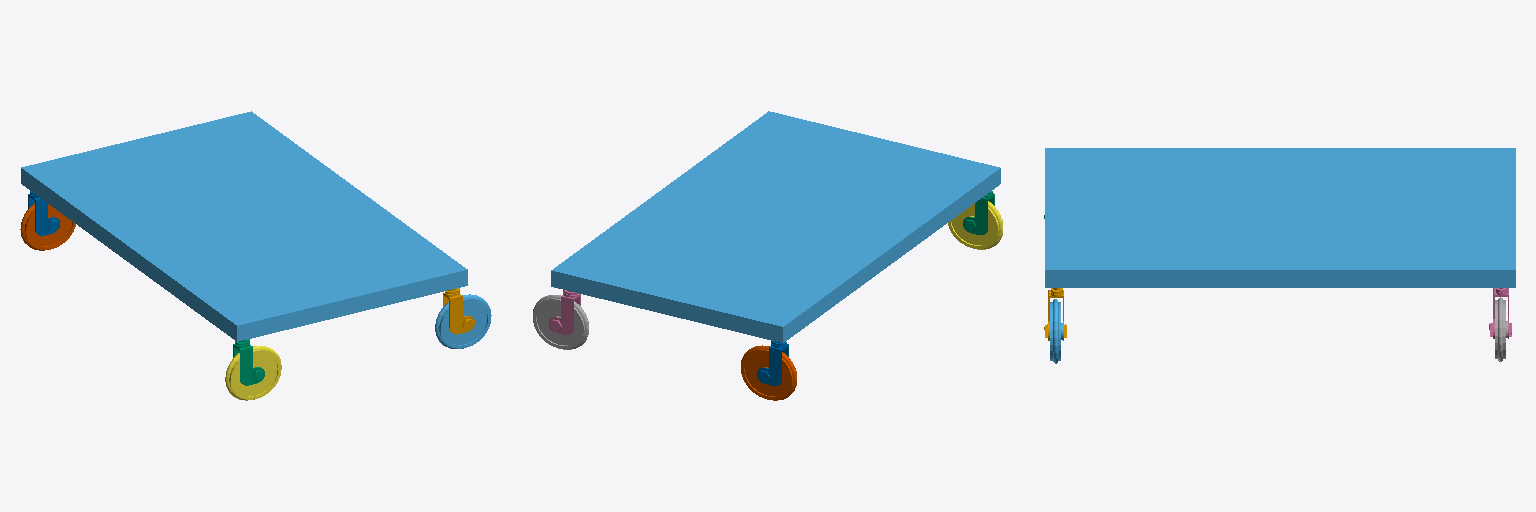
--- What the picture shows (computed from the rendered views, not written in the file) ---
Views: 3 orthographic renders of the robot side by side, from view 1: azimuth 30°, elevation 25°; view 2: azimuth 150°, elevation 25°; view 3: azimuth 270°, elevation 25°.
Model partnet_174832b73cd6d91c9856fa70a578baeb with 10 links and 9 joints (8 continuous, 1 fixed), rooted at base, posed every joint at zero.
Visible links, largest first — view 1: link_0, link_2, link_8, link_4, link_7, link_1, link_3; view 2: link_0, link_6, link_4, link_2, link_3, link_5, link_1; view 3: link_0, link_8, link_6.
Boxes of the visible links, x1,y1,x2,y2 form: link_0: (21,111,467,341); link_2: (225,346,281,400); link_8: (435,294,491,348); link_4: (20,203,75,250); link_7: (443,288,474,334); link_1: (233,339,264,385); link_3: (28,191,59,235); link_0: (551,111,1000,342); link_6: (533,295,588,349); link_4: (741,345,796,400); link_2: (948,201,1002,249); link_3: (757,340,788,385); link_5: (549,290,580,334); link_1: (963,191,994,234); link_0: (1045,148,1515,287); link_8: (1050,299,1062,363); link_6: (1495,297,1507,361).
Bounding box of the posed robot: 1.15 × 1.62 × 0.3409 m (x, y, z).
Meshes: 37 distinct files referenced, 37 mesh visuals loaded (37 OBJ).

URDF robot description (partnet_174832b73cd6d91c9856fa70a578baeb):
<robot name="partnet_174832b73cd6d91c9856fa70a578baeb">
	<link name="base" />
	<link name="link_0">
		<collision>
			<origin xyz="0 0 0" />
			<geometry>
				<mesh filename="new5_objs/bar-26-0.obj" />
			</geometry>
		</collision>
		<collision>
			<origin xyz="0 0 0" />
			<geometry>
				<mesh filename="new5_objs/bar-26-1.obj" />
			</geometry>
		</collision>
		<collision>
			<origin xyz="0 0 0" />
			<geometry>
				<mesh filename="new5_objs/bar-26-2.obj" />
			</geometry>
		</collision>
		<collision>
			<origin xyz="0 0 0" />
			<geometry>
				<mesh filename="new5_objs/bar-25-0.obj" />
			</geometry>
		</collision>
		<collision>
			<origin xyz="0 0 0" />
			<geometry>
				<mesh filename="new5_objs/bar-25-1.obj" />
			</geometry>
		</collision>
		<collision>
			<origin xyz="0 0 0" />
			<geometry>
				<mesh filename="new5_objs/bar-23-0.obj" />
			</geometry>
		</collision>
		<collision>
			<origin xyz="0 0 0" />
			<geometry>
				<mesh filename="new5_objs/bar-23-1.obj" />
			</geometry>
		</collision>
		<collision>
			<origin xyz="0 0 0" />
			<geometry>
				<mesh filename="new5_objs/bar-23-2.obj" />
			</geometry>
		</collision>
		<collision>
			<origin xyz="0 0 0" />
			<geometry>
				<mesh filename="new5_objs/glass-27-0.obj" />
			</geometry>
		</collision>
		<collision>
			<origin xyz="0 0 0" />
			<geometry>
				<mesh filename="new5_objs/glass-27-1.obj" />
			</geometry>
		</collision>
		<collision>
			<origin xyz="0 0 0" />
			<geometry>
				<mesh filename="new5_objs/glass-27-2.obj" />
			</geometry>
		</collision>
		<collision>
			<origin xyz="0 0 0" />
			<geometry>
				<mesh filename="new5_objs/glass-27-3.obj" />
			</geometry>
		</collision>
		<collision>
			<origin xyz="0 0 0" />
			<geometry>
				<mesh filename="new5_objs/glass-27-4.obj" />
			</geometry>
		</collision>
		<collision>
			<origin xyz="0 0 0" />
			<geometry>
				<mesh filename="new5_objs/glass-27-5.obj" />
			</geometry>
		</collision>
		<collision>
			<origin xyz="0 0 0" />
			<geometry>
				<mesh filename="new5_objs/bar-24-0.obj" />
			</geometry>
		</collision>
		<collision>
			<origin xyz="0 0 0" />
			<geometry>
				<mesh filename="new5_objs/bar-24-1.obj" />
			</geometry>
		</collision>
		<collision>
			<origin xyz="0 0 0" />
			<geometry>
				<mesh filename="new5_objs/bar-24-2.obj" />
			</geometry>
		</collision>
		<visual name="glass-27">
			<origin xyz="0 0 0" />
			<geometry>
				<mesh filename="textured_objs/new-8.obj" />
			</geometry>
		</visual>
		<visual name="bar-23">
			<origin xyz="0 0 0" />
			<geometry>
				<mesh filename="textured_objs/new-0.obj" />
			</geometry>
		</visual>
		<visual name="bar-23">
			<origin xyz="0 0 0" />
			<geometry>
				<mesh filename="textured_objs/new-7.obj" />
			</geometry>
		</visual>
		<visual name="bar-24">
			<origin xyz="0 0 0" />
			<geometry>
				<mesh filename="textured_objs/new-3.obj" />
			</geometry>
		</visual>
		<visual name="bar-24">
			<origin xyz="0 0 0" />
			<geometry>
				<mesh filename="textured_objs/new-6.obj" />
			</geometry>
		</visual>
		<visual name="bar-25">
			<origin xyz="0 0 0" />
			<geometry>
				<mesh filename="textured_objs/new-2.obj" />
			</geometry>
		</visual>
		<visual name="bar-25">
			<origin xyz="0 0 0" />
			<geometry>
				<mesh filename="textured_objs/new-5.obj" />
			</geometry>
		</visual>
		<visual name="bar-26">
			<origin xyz="0 0 0" />
			<geometry>
				<mesh filename="textured_objs/new-1.obj" />
			</geometry>
		</visual>
		<visual name="bar-26">
			<origin xyz="0 0 0" />
			<geometry>
				<mesh filename="textured_objs/new-4.obj" />
			</geometry>
		</visual>
		</link>
	<joint name="joint_0" type="fixed">
		<origin rpy="1.570796326794897 0 -1.570796326794897" xyz="0 0 0" />
		<child link="link_0" />
		<parent link="base" />
	</joint>
	<link name="link_1">
		<collision>
			<origin xyz="-0.797385 0 -0.45439450000000003" />
			<geometry>
				<mesh filename="new5_objs/caster_mounting_plate-15-0.obj" />
			</geometry>
		</collision>
		<collision>
			<origin xyz="-0.797385 0 -0.45439450000000003" />
			<geometry>
				<mesh filename="new5_objs/caster_mounting_plate-15-1.obj" />
			</geometry>
		</collision>
		<collision>
			<origin xyz="-0.797385 0 -0.45439450000000003" />
			<geometry>
				<mesh filename="new5_objs/caster_mounting_plate-15-2.obj" />
			</geometry>
		</collision>
		<collision>
			<origin xyz="-0.797385 0 -0.45439450000000003" />
			<geometry>
				<mesh filename="new5_objs/caster_mounting_plate-15-3.obj" />
			</geometry>
		</collision>
		<collision>
			<origin xyz="-0.797385 0 -0.45439450000000003" />
			<geometry>
				<mesh filename="new5_objs/caster_mounting_plate-15-4.obj" />
			</geometry>
		</collision>
		<collision>
			<origin xyz="-0.797385 0 -0.45439450000000003" />
			<geometry>
				<mesh filename="new5_objs/caster_mounting_plate-15-5.obj" />
			</geometry>
		</collision>
		<collision>
			<origin xyz="-0.797385 0 -0.45439450000000003" />
			<geometry>
				<mesh filename="new5_objs/caster_mounting_plate-15-6.obj" />
			</geometry>
		</collision>
		<collision>
			<origin xyz="-0.797385 0 -0.45439450000000003" />
			<geometry>
				<mesh filename="new5_objs/caster_mounting_plate-15-7.obj" />
			</geometry>
		</collision>
		<collision>
			<origin xyz="-0.797385 0 -0.45439450000000003" />
			<geometry>
				<mesh filename="new5_objs/caster_mounting_plate-15-8.obj" />
			</geometry>
		</collision>
		<collision>
			<origin xyz="-0.797385 0 -0.45439450000000003" />
			<geometry>
				<mesh filename="new5_objs/caster_mounting_plate-15-9.obj" />
			</geometry>
		</collision>
		<collision>
			<origin xyz="-0.797385 0 -0.45439450000000003" />
			<geometry>
				<mesh filename="new5_objs/caster_mounting_plate-15-10.obj" />
			</geometry>
		</collision>
		<collision>
			<origin xyz="-0.797385 0 -0.45439450000000003" />
			<geometry>
				<mesh filename="new5_objs/caster_mounting_plate-15-11.obj" />
			</geometry>
		</collision>
		<collision>
			<origin xyz="-0.797385 0 -0.45439450000000003" />
			<geometry>
				<mesh filename="new5_objs/caster_mounting_plate-15-12.obj" />
			</geometry>
		</collision>
		<collision>
			<origin xyz="-0.797385 0 -0.45439450000000003" />
			<geometry>
				<mesh filename="new5_objs/caster_mounting_plate-15-13.obj" />
			</geometry>
		</collision>
		<collision>
			<origin xyz="-0.797385 0 -0.45439450000000003" />
			<geometry>
				<mesh filename="new5_objs/caster_mounting_plate-15-14.obj" />
			</geometry>
		</collision>
		<collision>
			<origin xyz="-0.797385 0 -0.45439450000000003" />
			<geometry>
				<mesh filename="new5_objs/caster_mounting_plate-15-15.obj" />
			</geometry>
		</collision>
		<collision>
			<origin xyz="-0.797385 0 -0.45439450000000003" />
			<geometry>
				<mesh filename="new5_objs/caster_mounting_plate-15-16.obj" />
			</geometry>
		</collision>
		<collision>
			<origin xyz="-0.797385 0 -0.45439450000000003" />
			<geometry>
				<mesh filename="new5_objs/caster_mounting_plate-15-17.obj" />
			</geometry>
		</collision>
		<collision>
			<origin xyz="-0.797385 0 -0.45439450000000003" />
			<geometry>
				<mesh filename="new5_objs/caster_mounting_plate-15-18.obj" />
			</geometry>
		</collision>
		<collision>
			<origin xyz="-0.797385 0 -0.45439450000000003" />
			<geometry>
				<mesh filename="new5_objs/caster_mounting_plate-15-19.obj" />
			</geometry>
		</collision>
		<collision>
			<origin xyz="-0.797385 0 -0.45439450000000003" />
			<geometry>
				<mesh filename="new5_objs/caster_mounting_plate-15-20.obj" />
			</geometry>
		</collision>
		<collision>
			<origin xyz="-0.797385 0 -0.45439450000000003" />
			<geometry>
				<mesh filename="new5_objs/caster_mounting_plate-15-21.obj" />
			</geometry>
		</collision>
		<collision>
			<origin xyz="-0.797385 0 -0.45439450000000003" />
			<geometry>
				<mesh filename="new5_objs/caster_mounting_plate-15-22.obj" />
			</geometry>
		</collision>
		<collision>
			<origin xyz="-0.797385 0 -0.45439450000000003" />
			<geometry>
				<mesh filename="new5_objs/caster_mounting_plate-15-23.obj" />
			</geometry>
		</collision>
		<collision>
			<origin xyz="-0.797385 0 -0.45439450000000003" />
			<geometry>
				<mesh filename="new5_objs/caster_mounting_plate-15-24.obj" />
			</geometry>
		</collision>
		<collision>
			<origin xyz="-0.797385 0 -0.45439450000000003" />
			<geometry>
				<mesh filename="new5_objs/caster_mounting_plate-15-25.obj" />
			</geometry>
		</collision>
		<collision>
			<origin xyz="-0.797385 0 -0.45439450000000003" />
			<geometry>
				<mesh filename="new5_objs/caster_mounting_plate-15-26.obj" />
			</geometry>
		</collision>
		<collision>
			<origin xyz="-0.797385 0 -0.45439450000000003" />
			<geometry>
				<mesh filename="new5_objs/caster_mounting_plate-15-27.obj" />
			</geometry>
		</collision>
		<collision>
			<origin xyz="-0.797385 0 -0.45439450000000003" />
			<geometry>
				<mesh filename="new5_objs/caster_mounting_plate-15-28.obj" />
			</geometry>
		</collision>
		<collision>
			<origin xyz="-0.797385 0 -0.45439450000000003" />
			<geometry>
				<mesh filename="new5_objs/caster_mounting_plate-15-29.obj" />
			</geometry>
		</collision>
		<collision>
			<origin xyz="-0.797385 0 -0.45439450000000003" />
			<geometry>
				<mesh filename="new5_objs/caster_mounting_plate-15-30.obj" />
			</geometry>
		</collision>
		<collision>
			<origin xyz="-0.797385 0 -0.45439450000000003" />
			<geometry>
				<mesh filename="new5_objs/caster_mounting_plate-15-31.obj" />
			</geometry>
		</collision>
		<collision>
			<origin xyz="-0.797385 0 -0.45439450000000003" />
			<geometry>
				<mesh filename="new5_objs/caster_mounting_plate-15-32.obj" />
			</geometry>
		</collision>
		<collision>
			<origin xyz="-0.797385 0 -0.45439450000000003" />
			<geometry>
				<mesh filename="new5_objs/caster_mounting_plate-15-33.obj" />
			</geometry>
		</collision>
		<collision>
			<origin xyz="-0.797385 0 -0.45439450000000003" />
			<geometry>
				<mesh filename="new5_objs/caster_mounting_plate-15-34.obj" />
			</geometry>
		</collision>
		<collision>
			<origin xyz="-0.797385 0 -0.45439450000000003" />
			<geometry>
				<mesh filename="new5_objs/caster_mounting_plate-15-35.obj" />
			</geometry>
		</collision>
		<visual name="caster_mounting_plate-15">
			<origin xyz="-0.797385 0 -0.45439450000000003" />
			<geometry>
				<mesh filename="textured_objs/original-19.obj" />
			</geometry>
		</visual>
		<visual name="caster_mounting_plate-15">
			<origin xyz="-0.797385 0 -0.45439450000000003" />
			<geometry>
				<mesh filename="textured_objs/original-14.obj" />
			</geometry>
		</visual>
		<visual name="caster_mounting_plate-15">
			<origin xyz="-0.797385 0 -0.45439450000000003" />
			<geometry>
				<mesh filename="textured_objs/original-15.obj" />
			</geometry>
		</visual>
		<visual name="caster_mounting_plate-15">
			<origin xyz="-0.797385 0 -0.45439450000000003" />
			<geometry>
				<mesh filename="textured_objs/original-17.obj" />
			</geometry>
		</visual>
		<visual name="caster_mounting_plate-15">
			<origin xyz="-0.797385 0 -0.45439450000000003" />
			<geometry>
				<mesh filename="textured_objs/original-18.obj" />
			</geometry>
		</visual>
		<visual name="caster_mounting_plate-15">
			<origin xyz="-0.797385 0 -0.45439450000000003" />
			<geometry>
				<mesh filename="textured_objs/original-20.obj" />
			</geometry>
		</visual>
		</link>
	<joint name="joint_1" type="continuous">
		<origin xyz="0.797385 0 0.45439450000000003" />
		<axis xyz="0 1 0" />
		<child link="link_1" />
		<parent link="link_0" />
	</joint>
	<link name="link_2">
		<collision>
			<origin xyz="0 0.18953 -0.409591" />
			<geometry>
				<mesh filename="new5_objs/wheel-16-0.obj" />
			</geometry>
		</collision>
		<collision>
			<origin xyz="0 0.18953 -0.409591" />
			<geometry>
				<mesh filename="new5_objs/wheel-16-1.obj" />
			</geometry>
		</collision>
		<collision>
			<origin xyz="0 0.18953 -0.409591" />
			<geometry>
				<mesh filename="new5_objs/wheel-16-2.obj" />
			</geometry>
		</collision>
		<collision>
			<origin xyz="0 0.18953 -0.409591" />
			<geometry>
				<mesh filename="new5_objs/wheel-16-3.obj" />
			</geometry>
		</collision>
		<collision>
			<origin xyz="0 0.18953 -0.409591" />
			<geometry>
				<mesh filename="new5_objs/wheel-16-4.obj" />
			</geometry>
		</collision>
		<collision>
			<origin xyz="0 0.18953 -0.409591" />
			<geometry>
				<mesh filename="new5_objs/wheel-16-5.obj" />
			</geometry>
		</collision>
		<collision>
			<origin xyz="0 0.18953 -0.409591" />
			<geometry>
				<mesh filename="new5_objs/wheel-16-6.obj" />
			</geometry>
		</collision>
		<collision>
			<origin xyz="0 0.18953 -0.409591" />
			<geometry>
				<mesh filename="new5_objs/wheel-16-7.obj" />
			</geometry>
		</collision>
		<collision>
			<origin xyz="0 0.18953 -0.409591" />
			<geometry>
				<mesh filename="new5_objs/wheel-16-8.obj" />
			</geometry>
		</collision>
		<collision>
			<origin xyz="0 0.18953 -0.409591" />
			<geometry>
				<mesh filename="new5_objs/wheel-16-9.obj" />
			</geometry>
		</collision>
		<collision>
			<origin xyz="0 0.18953 -0.409591" />
			<geometry>
				<mesh filename="new5_objs/wheel-16-10.obj" />
			</geometry>
		</collision>
		<collision>
			<origin xyz="0 0.18953 -0.409591" />
			<geometry>
				<mesh filename="new5_objs/wheel-16-11.obj" />
			</geometry>
		</collision>
		<collision>
			<origin xyz="0 0.18953 -0.409591" />
			<geometry>
				<mesh filename="new5_objs/wheel-16-12.obj" />
			</geometry>
		</collision>
		<collision>
			<origin xyz="0 0.18953 -0.409591" />
			<geometry>
				<mesh filename="new5_objs/wheel-16-13.obj" />
			</geometry>
		</collision>
		<collision>
			<origin xyz="0 0.18953 -0.409591" />
			<geometry>
				<mesh filename="new5_objs/wheel-16-14.obj" />
			</geometry>
		</collision>
		<collision>
			<origin xyz="0 0.18953 -0.409591" />
			<geometry>
				<mesh filename="new5_objs/wheel-16-15.obj" />
			</geometry>
		</collision>
		<collision>
			<origin xyz="0 0.18953 -0.409591" />
			<geometry>
				<mesh filename="new5_objs/wheel-16-16.obj" />
			</geometry>
		</collision>
		<collision>
			<origin xyz="0 0.18953 -0.409591" />
			<geometry>
				<mesh filename="new5_objs/wheel-16-17.obj" />
			</geometry>
		</collision>
		<collision>
			<origin xyz="0 0.18953 -0.409591" />
			<geometry>
				<mesh filename="new5_objs/wheel-16-18.obj" />
			</geometry>
		</collision>
		<collision>
			<origin xyz="0 0.18953 -0.409591" />
			<geometry>
				<mesh filename="new5_objs/wheel-16-19.obj" />
			</geometry>
		</collision>
		<collision>
			<origin xyz="0 0.18953 -0.409591" />
			<geometry>
				<mesh filename="new5_objs/wheel-16-20.obj" />
			</geometry>
		</collision>
		<collision>
			<origin xyz="0 0.18953 -0.409591" />
			<geometry>
				<mesh filename="new5_objs/wheel-16-21.obj" />
			</geometry>
		</collision>
		<collision>
			<origin xyz="0 0.18953 -0.409591" />
			<geometry>
				<mesh filename="new5_objs/wheel-16-22.obj" />
			</geometry>
		</collision>
		<collision>
			<origin xyz="0 0.18953 -0.409591" />
			<geometry>
				<mesh filename="new5_objs/wheel-16-23.obj" />
			</geometry>
		</collision>
		<collision>
			<origin xyz="0 0.18953 -0.409591" />
			<geometry>
				<mesh filename="new5_objs/wheel-16-24.obj" />
			</geometry>
		</collision>
		<collision>
			<origin xyz="0 0.18953 -0.409591" />
			<geometry>
				<mesh filename="new5_objs/wheel-16-25.obj" />
			</geometry>
		</collision>
		<collision>
			<origin xyz="0 0.18953 -0.409591" />
			<geometry>
				<mesh filename="new5_objs/wheel-16-26.obj" />
			</geometry>
		</collision>
		<collision>
			<origin xyz="0 0.18953 -0.409591" />
			<geometry>
				<mesh filename="new5_objs/wheel-16-27.obj" />
			</geometry>
		</collision>
		<collision>
			<origin xyz="0 0.18953 -0.409591" />
			<geometry>
				<mesh filename="new5_objs/wheel-16-28.obj" />
			</geometry>
		</collision>
		<collision>
			<origin xyz="0 0.18953 -0.409591" />
			<geometry>
				<mesh filename="new5_objs/wheel-16-29.obj" />
			</geometry>
		</collision>
		<collision>
			<origin xyz="0 0.18953 -0.409591" />
			<geometry>
				<mesh filename="new5_objs/wheel-16-30.obj" />
			</geometry>
		</collision>
		<collision>
			<origin xyz="0 0.18953 -0.409591" />
			<geometry>
				<mesh filename="new5_objs/wheel-16-31.obj" />
			</geometry>
		</collision>
		<collision>
			<origin xyz="0 0.18953 -0.409591" />
			<geometry>
				<mesh filename="new5_objs/wheel-16-32.obj" />
			</geometry>
		</collision>
		<collision>
			<origin xyz="0 0.18953 -0.409591" />
			<geometry>
				<mesh filename="new5_objs/wheel-16-33.obj" />
			</geometry>
		</collision>
		<collision>
			<origin xyz="0 0.18953 -0.409591" />
			<geometry>
				<mesh filename="new5_objs/wheel-16-34.obj" />
			</geometry>
		</collision>
		<collision>
			<origin xyz="0 0.18953 -0.409591" />
			<geometry>
				<mesh filename="new5_objs/wheel-16-35.obj" />
			</geometry>
		</collision>
		<collision>
			<origin xyz="0 0.18953 -0.409591" />
			<geometry>
				<mesh filename="new5_objs/wheel-16-36.obj" />
			</geometry>
		</collision>
		<collision>
			<origin xyz="0 0.18953 -0.409591" />
			<geometry>
				<mesh filename="new5_objs/wheel-16-37.obj" />
			</geometry>
		</collision>
		<collision>
			<origin xyz="0 0.18953 -0.409591" />
			<geometry>
				<mesh filename="new5_objs/wheel-16-38.obj" />
			</geometry>
		</collision>
	<visual name="wheel-16">
			<origin xyz="0 0.18953 -0.409591" />
			<geometry>
				<mesh filename="textured_objs/original-16.obj" />
			</geometry>
		</visual>
		</link>
	<joint name="joint_2" type="continuous">
		<origin xyz="-0.797385 -0.18953 -0.04480350000000005" />
		<axis xyz="1 0 0" />
		<child link="link_2" />
		<parent link="link_1" />
	</joint>
	<link name="link_3">
		<collision>
			<origin xyz="0.7378236123256089 0 -0.46174722434282295" />
			<geometry>
				<mesh filename="new5_objs/caster_mounting_plate-13-0.obj" />
			</geometry>
		</collision>
		<collision>
			<origin xyz="0.7378236123256089 0 -0.46174722434282295" />
			<geometry>
				<mesh filename="new5_objs/caster_mounting_plate-13-1.obj" />
			</geometry>
		</collision>
		<collision>
			<origin xyz="0.7378236123256089 0 -0.46174722434282295" />
			<geometry>
				<mesh filename="new5_objs/caster_mounting_plate-13-2.obj" />
			</geometry>
		</collision>
		<collision>
			<origin xyz="0.7378236123256089 0 -0.46174722434282295" />
			<geometry>
				<mesh filename="new5_objs/caster_mounting_plate-13-3.obj" />
			</geometry>
		</collision>
		<collision>
			<origin xyz="0.7378236123256089 0 -0.46174722434282295" />
			<geometry>
				<mesh filename="new5_objs/caster_mounting_plate-13-4.obj" />
			</geometry>
		</collision>
		<collision>
			<origin xyz="0.7378236123256089 0 -0.46174722434282295" />
			<geometry>
				<mesh filename="new5_objs/caster_mounting_plate-13-5.obj" />
			</geometry>
		</collision>
		<collision>
			<origin xyz="0.7378236123256089 0 -0.46174722434282295" />
			<geometry>
				<mesh filename="new5_objs/caster_mounting_plate-13-6.obj" />
			</geometry>
		</collision>
		<collision>
			<origin xyz="0.7378236123256089 0 -0.46174722434282295" />
			<geometry>
				<mesh filename="new5_objs/caster_mounting_plate-13-7.obj" />
			</geometry>
		</collision>
		<collision>
			<origin xyz="0.7378236123256089 0 -0.46174722434282295" />
			<geometry>
				<mesh filename="new5_objs/caster_mounting_plate-13-8.obj" />
			</geometry>
		</collision>
		<collision>
			<origin xyz="0.7378236123256089 0 -0.46174722434282295" />
			<geometry>
				<mesh filename="new5_objs/caster_mounting_plate-13-9.obj" />
			</geometry>
		</collision>
		<collision>
			<origin xyz="0.7378236123256089 0 -0.46174722434282295" />
			<geometry>
				<mesh filename="new5_objs/caster_mounting_plate-13-10.obj" />
			</geometry>
		</collision>
		<collision>
			<origin xyz="0.7378236123256089 0 -0.46174722434282295" />
			<geometry>
				<mesh filename="new5_objs/caster_mounting_plate-13-11.obj" />
			</geometry>
		</collision>
		<collision>
			<origin xyz="0.7378236123256089 0 -0.46174722434282295" />
			<geometry>
				<mesh filename="new5_objs/caster_mounting_plate-13-12.obj" />
			</geometry>
		</collision>
		<collision>
			<origin xyz="0.7378236123256089 0 -0.46174722434282295" />
			<geometry>
				<mesh filename="new5_objs/caster_mounting_plate-13-13.obj" />
			</geometry>
		</collision>
		<collision>
			<origin xyz="0.7378236123256089 0 -0.46174722434282295" />
			<geometry>
				<mesh filename="new5_objs/caster_mounting_plate-13-14.obj" />
			</geometry>
		</collision>
		<collision>
			<origin xyz="0.7378236123256089 0 -0.46174722434282295" />
			<geometry>
				<mesh filename="new5_objs/caster_mounting_plate-13-15.obj" />
			</geometry>
		</collision>
		<collision>
			<origin xyz="0.7378236123256089 0 -0.46174722434282295" />
			<geometry>
				<mesh filename="new5_objs/caster_mounting_plate-13-16.obj" />
			</geometry>
		</collision>
		<collision>
			<origin xyz="0.7378236123256089 0 -0.46174722434282295" />
			<geometry>
				<mesh filename="new5_objs/caster_mounting_plate-13-17.obj" />
			</geometry>
		</collision>
		<collision>
			<origin xyz="0.7378236123256089 0 -0.46174722434282295" />
			<geometry>
				<mesh filename="new5_objs/caster_mounting_plate-13-18.obj" />
			</geometry>
		</collision>
		<collision>
			<origin xyz="0.7378236123256089 0 -0.46174722434282295" />
			<geometry>
				<mesh filename="new5_objs/caster_mounting_plate-13-19.obj" />
			</geometry>
		</collision>
		<collision>
			<origin xyz="0.7378236123256089 0 -0.46174722434282295" />
			<geometry>
				<mesh filename="new5_objs/caster_mounting_plate-13-20.obj" />
			</geometry>
		</collision>
		<collision>
			<origin xyz="0.7378236123256089 0 -0.46174722434282295" />
			<geometry>
				<mesh filename="new5_objs/caster_mounting_plate-13-21.obj" />
			</geometry>
		</collision>
		<collision>
			<origin xyz="0.7378236123256089 0 -0.46174722434282295" />
			<geometry>
				<mesh filename="new5_objs/caster_mounting_plate-13-22.obj" />
			</geometry>
		</collision>
		<collision>
			<origin xyz="0.7378236123256089 0 -0.46174722434282295" />
			<geometry>
				<mesh filename="new5_objs/caster_mounting_plate-13-23.obj" />
			</geometry>
		</collision>
		<collision>
			<origin xyz="0.7378236123256089 0 -0.46174722434282295" />
			<geometry>
				<mesh filename="new5_objs/caster_mounting_plate-13-24.obj" />
			</geometry>
		</collision>
		<collision>
			<origin xyz="0.7378236123256089 0 -0.46174722434282295" />
			<geometry>
				<mesh filename="new5_objs/caster_mounting_plate-13-25.obj" />
			</geometry>
		</collision>
		<collision>
			<origin xyz="0.7378236123256089 0 -0.46174722434282295" />
			<geometry>
				<mesh filename="new5_objs/caster_mounting_plate-13-26.obj" />
			</geometry>
		</collision>
		<collision>
			<origin xyz="0.7378236123256089 0 -0.46174722434282295" />
			<geometry>
				<mesh filename="new5_objs/caster_mounting_plate-13-27.obj" />
			</geometry>
		</collision>
		<collision>
			<origin xyz="0.7378236123256089 0 -0.46174722434282295" />
			<geometry>
				<mesh filename="new5_objs/caster_mounting_plate-13-28.obj" />
			</geometry>
		</collision>
		<collision>
			<origin xyz="0.7378236123256089 0 -0.46174722434282295" />
			<geometry>
				<mesh filename="new5_objs/caster_mounting_plate-13-29.obj" />
			</geometry>
		</collision>
		<collision>
			<origin xyz="0.7378236123256089 0 -0.46174722434282295" />
			<geometry>
				<mesh filename="new5_objs/caster_mounting_plate-13-30.obj" />
			</geometry>
		</collision>
		<collision>
			<origin xyz="0.7378236123256089 0 -0.46174722434282295" />
			<geometry>
				<mesh filename="new5_objs/caster_mounting_plate-13-31.obj" />
			</geometry>
		</collision>
		<collision>
			<origin xyz="0.7378236123256089 0 -0.46174722434282295" />
			<geometry>
				<mesh filename="new5_objs/caster_mounting_plate-13-32.obj" />
			</geometry>
		</collision>
		<collision>
			<origin xyz="0.7378236123256089 0 -0.46174722434282295" />
			<geometry>
				<mesh filename="new5_objs/caster_mounting_plate-13-33.obj" />
			</geometry>
		</collision>
		<collision>
			<origin xyz="0.7378236123256089 0 -0.46174722434282295" />
			<geometry>
				<mesh filename="new5_objs/caster_mounting_plate-13-34.obj" />
			</geometry>
		</collision>
		<collision>
			<origin xyz="0.7378236123256089 0 -0.46174722434282295" />
			<geometry>
				<mesh filename="new5_objs/caster_mounting_plate-13-35.obj" />
			</geometry>
		</collision>
		<visual name="caster_mounting_plate-13">
			<origin xyz="0.7378236123256089 0 -0.46174722434282295" />
			<geometry>
				<mesh filename="textured_objs/original-27.obj" />
			</geometry>
		</visual>
		<visual name="caster_mounting_plate-13">
			<origin xyz="0.7378236123256089 0 -0.46174722434282295" />
			<geometry>
				<mesh filename="textured_objs/original-31.obj" />
			</geometry>
		</visual>
		<visual name="caster_mounting_plate-13">
			<origin xyz="0.7378236123256089 0 -0.46174722434282295" />
			<geometry>
				<mesh filename="textured_objs/original-26.obj" />
			</geometry>
		</visual>
		<visual name="caster_mounting_plate-13">
			<origin xyz="0.7378236123256089 0 -0.46174722434282295" />
			<geometry>
				<mesh filename="textured_objs/original-30.obj" />
			</geometry>
		</visual>
		<visual name="caster_mounting_plate-13">
			<origin xyz="0.7378236123256089 0 -0.46174722434282295" />
			<geometry>
				<mesh filename="textured_objs/original-29.obj" />
			</geometry>
		</visual>
		<visual name="caster_mounting_plate-13">
			<origin xyz="0.7378236123256089 0 -0.46174722434282295" />
			<geometry>
				<mesh filename="textured_objs/original-32.obj" />
			</geometry>
		</visual>
		</link>
	<joint name="joint_3" type="continuous">
		<origin xyz="-0.7378236123256089 0 0.46174722434282295" />
		<axis xyz="0 1 0" />
		<child link="link_3" />
		<parent link="link_0" />
	</joint>
	<link name="link_4">
		<collision>
			<origin xyz="0 0.18953 -0.409591" />
			<geometry>
				<mesh filename="new5_objs/wheel-14-0.obj" />
			</geometry>
		</collision>
		<collision>
			<origin xyz="0 0.18953 -0.409591" />
			<geometry>
				<mesh filename="new5_objs/wheel-14-1.obj" />
			</geometry>
		</collision>
		<collision>
			<origin xyz="0 0.18953 -0.409591" />
			<geometry>
				<mesh filename="new5_objs/wheel-14-2.obj" />
			</geometry>
		</collision>
		<collision>
			<origin xyz="0 0.18953 -0.409591" />
			<geometry>
				<mesh filename="new5_objs/wheel-14-3.obj" />
			</geometry>
		</collision>
		<collision>
			<origin xyz="0 0.18953 -0.409591" />
			<geometry>
				<mesh filename="new5_objs/wheel-14-4.obj" />
			</geometry>
		</collision>
		<collision>
			<origin xyz="0 0.18953 -0.409591" />
			<geometry>
				<mesh filename="new5_objs/wheel-14-5.obj" />
			</geometry>
		</collision>
		<collision>
			<origin xyz="0 0.18953 -0.409591" />
			<geometry>
				<mesh filename="new5_objs/wheel-14-6.obj" />
			</geometry>
		</collision>
		<collision>
			<origin xyz="0 0.18953 -0.409591" />
			<geometry>
				<mesh filename="new5_objs/wheel-14-7.obj" />
			</geometry>
		</collision>
		<collision>
			<origin xyz="0 0.18953 -0.409591" />
			<geometry>
				<mesh filename="new5_objs/wheel-14-8.obj" />
			</geometry>
		</collision>
		<collision>
			<origin xyz="0 0.18953 -0.409591" />
			<geometry>
				<mesh filename="new5_objs/wheel-14-9.obj" />
			</geometry>
		</collision>
		<collision>
			<origin xyz="0 0.18953 -0.409591" />
			<geometry>
				<mesh filename="new5_objs/wheel-14-10.obj" />
			</geometry>
		</collision>
		<collision>
			<origin xyz="0 0.18953 -0.409591" />
			<geometry>
				<mesh filename="new5_objs/wheel-14-11.obj" />
			</geometry>
		</collision>
		<collision>
			<origin xyz="0 0.18953 -0.409591" />
			<geometry>
				<mesh filename="new5_objs/wheel-14-12.obj" />
			</geometry>
		</collision>
		<collision>
			<origin xyz="0 0.18953 -0.409591" />
			<geometry>
				<mesh filename="new5_objs/wheel-14-13.obj" />
			</geometry>
		</collision>
		<collision>
			<origin xyz="0 0.18953 -0.409591" />
			<geometry>
				<mesh filename="new5_objs/wheel-14-14.obj" />
			</geometry>
		</collision>
		<collision>
			<origin xyz="0 0.18953 -0.409591" />
			<geometry>
				<mesh filename="new5_objs/wheel-14-15.obj" />
			</geometry>
		</collision>
		<collision>
			<origin xyz="0 0.18953 -0.409591" />
			<geometry>
				<mesh filename="new5_objs/wheel-14-16.obj" />
			</geometry>
		</collision>
		<collision>
			<origin xyz="0 0.18953 -0.409591" />
			<geometry>
				<mesh filename="new5_objs/wheel-14-17.obj" />
			</geometry>
		</collision>
		<collision>
			<origin xyz="0 0.18953 -0.409591" />
			<geometry>
				<mesh filename="new5_objs/wheel-14-18.obj" />
			</geometry>
		</collision>
		<collision>
			<origin xyz="0 0.18953 -0.409591" />
			<geometry>
				<mesh filename="new5_objs/wheel-14-19.obj" />
			</geometry>
		</collision>
		<collision>
			<origin xyz="0 0.18953 -0.409591" />
			<geometry>
				<mesh filename="new5_objs/wheel-14-20.obj" />
			</geometry>
		</collision>
		<collision>
			<origin xyz="0 0.18953 -0.409591" />
			<geometry>
				<mesh filename="new5_objs/wheel-14-21.obj" />
			</geometry>
		</collision>
		<collision>
			<origin xyz="0 0.18953 -0.409591" />
			<geometry>
				<mesh filename="new5_objs/wheel-14-22.obj" />
			</geometry>
		</collision>
		<collision>
			<origin xyz="0 0.18953 -0.409591" />
			<geometry>
				<mesh filename="new5_objs/wheel-14-23.obj" />
			</geometry>
		</collision>
		<collision>
			<origin xyz="0 0.18953 -0.409591" />
			<geometry>
				<mesh filename="new5_objs/wheel-14-24.obj" />
			</geometry>
		</collision>
		<collision>
			<origin xyz="0 0.18953 -0.409591" />
			<geometry>
				<mesh filename="new5_objs/wheel-14-25.obj" />
			</geometry>
		</collision>
		<collision>
			<origin xyz="0 0.18953 -0.409591" />
			<geometry>
				<mesh filename="new5_objs/wheel-14-26.obj" />
			</geometry>
		</collision>
		<collision>
			<origin xyz="0 0.18953 -0.409591" />
			<geometry>
				<mesh filename="new5_objs/wheel-14-27.obj" />
			</geometry>
		</collision>
		<collision>
			<origin xyz="0 0.18953 -0.409591" />
			<geometry>
				<mesh filename="new5_objs/wheel-14-28.obj" />
			</geometry>
		</collision>
		<collision>
			<origin xyz="0 0.18953 -0.409591" />
			<geometry>
				<mesh filename="new5_objs/wheel-14-29.obj" />
			</geometry>
		</collision>
		<collision>
			<origin xyz="0 0.18953 -0.409591" />
			<geometry>
				<mesh filename="new5_objs/wheel-14-30.obj" />
			</geometry>
		</collision>
		<collision>
			<origin xyz="0 0.18953 -0.409591" />
			<geometry>
				<mesh filename="new5_objs/wheel-14-31.obj" />
			</geometry>
		</collision>
		<collision>
			<origin xyz="0 0.18953 -0.409591" />
			<geometry>
				<mesh filename="new5_objs/wheel-14-32.obj" />
			</geometry>
		</collision>
		<collision>
			<origin xyz="0 0.18953 -0.409591" />
			<geometry>
				<mesh filename="new5_objs/wheel-14-33.obj" />
			</geometry>
		</collision>
		<collision>
			<origin xyz="0 0.18953 -0.409591" />
			<geometry>
				<mesh filename="new5_objs/wheel-14-34.obj" />
			</geometry>
		</collision>
		<collision>
			<origin xyz="0 0.18953 -0.409591" />
			<geometry>
				<mesh filename="new5_objs/wheel-14-35.obj" />
			</geometry>
		</collision>
		<collision>
			<origin xyz="0 0.18953 -0.409591" />
			<geometry>
				<mesh filename="new5_objs/wheel-14-36.obj" />
			</geometry>
		</collision>
		<collision>
			<origin xyz="0 0.18953 -0.409591" />
			<geometry>
				<mesh filename="new5_objs/wheel-14-37.obj" />
			</geometry>
		</collision>
		<collision>
			<origin xyz="0 0.18953 -0.409591" />
			<geometry>
				<mesh filename="new5_objs/wheel-14-38.obj" />
			</geometry>
		</collision>
	<visual name="wheel-14">
			<origin xyz="0 0.18953 -0.409591" />
			<geometry>
				<mesh filename="textured_objs/original-28.obj" />
			</geometry>
		</visual>
		</link>
	<joint name="joint_4" type="continuous">
		<origin xyz="0.7378236123256089 -0.18953 -0.052156224342822965" />
		<axis xyz="-1 0 0" />
		<child link="link_4" />
		<parent link="link_3" />
	</joint>
	<link name="link_5">
		<collision>
			<origin xyz="0.7353071140952109 0 0.4420390869193078" />
			<geometry>
				<mesh filename="new5_objs/caster_mounting_plate-11-0.obj" />
			</geometry>
		</collision>
		<collision>
			<origin xyz="0.7353071140952109 0 0.4420390869193078" />
			<geometry>
				<mesh filename="new5_objs/caster_mounting_plate-11-1.obj" />
			</geometry>
		</collision>
		<collision>
			<origin xyz="0.7353071140952109 0 0.4420390869193078" />
			<geometry>
				<mesh filename="new5_objs/caster_mounting_plate-11-2.obj" />
			</geometry>
		</collision>
		<collision>
			<origin xyz="0.7353071140952109 0 0.4420390869193078" />
			<geometry>
				<mesh filename="new5_objs/caster_mounting_plate-11-3.obj" />
			</geometry>
		</collision>
		<collision>
			<origin xyz="0.7353071140952109 0 0.4420390869193078" />
			<geometry>
				<mesh filename="new5_objs/caster_mounting_plate-11-4.obj" />
			</geometry>
		</collision>
		<collision>
			<origin xyz="0.7353071140952109 0 0.4420390869193078" />
			<geometry>
				<mesh filename="new5_objs/caster_mounting_plate-11-5.obj" />
			</geometry>
		</collision>
		<collision>
			<origin xyz="0.7353071140952109 0 0.4420390869193078" />
			<geometry>
				<mesh filename="new5_objs/caster_mounting_plate-11-6.obj" />
			</geometry>
		</collision>
		<collision>
			<origin xyz="0.7353071140952109 0 0.4420390869193078" />
			<geometry>
				<mesh filename="new5_objs/caster_mounting_plate-11-7.obj" />
			</geometry>
		</collision>
		<collision>
			<origin xyz="0.7353071140952109 0 0.4420390869193078" />
			<geometry>
				<mesh filename="new5_objs/caster_mounting_plate-11-8.obj" />
			</geometry>
		</collision>
		<collision>
			<origin xyz="0.7353071140952109 0 0.4420390869193078" />
			<geometry>
				<mesh filename="new5_objs/caster_mounting_plate-11-9.obj" />
			</geometry>
		</collision>
		<collision>
			<origin xyz="0.7353071140952109 0 0.4420390869193078" />
			<geometry>
				<mesh filename="new5_objs/caster_mounting_plate-11-10.obj" />
			</geometry>
		</collision>
		<collision>
			<origin xyz="0.7353071140952109 0 0.4420390869193078" />
			<geometry>
				<mesh filename="new5_objs/caster_mounting_plate-11-11.obj" />
			</geometry>
		</collision>
		<collision>
			<origin xyz="0.7353071140952109 0 0.4420390869193078" />
			<geometry>
				<mesh filename="new5_objs/caster_mounting_plate-11-12.obj" />
			</geometry>
		</collision>
		<collision>
			<origin xyz="0.7353071140952109 0 0.4420390869193078" />
			<geometry>
				<mesh filename="new5_objs/caster_mounting_plate-11-13.obj" />
			</geometry>
		</collision>
		<collision>
			<origin xyz="0.7353071140952109 0 0.4420390869193078" />
			<geometry>
				<mesh filename="new5_objs/caster_mounting_plate-11-14.obj" />
			</geometry>
		</collision>
		<collision>
			<origin xyz="0.7353071140952109 0 0.4420390869193078" />
			<geometry>
				<mesh filename="new5_objs/caster_mounting_plate-11-15.obj" />
			</geometry>
		</collision>
		<collision>
			<origin xyz="0.7353071140952109 0 0.4420390869193078" />
			<geometry>
				<mesh filename="new5_objs/caster_mounting_plate-11-16.obj" />
			</geometry>
		</collision>
		<collision>
			<origin xyz="0.7353071140952109 0 0.4420390869193078" />
			<geometry>
				<mesh filename="new5_objs/caster_mounting_plate-11-17.obj" />
			</geometry>
		</collision>
		<collision>
			<origin xyz="0.7353071140952109 0 0.4420390869193078" />
			<geometry>
				<mesh filename="new5_objs/caster_mounting_plate-11-18.obj" />
			</geometry>
		</collision>
		<collision>
			<origin xyz="0.7353071140952109 0 0.4420390869193078" />
			<geometry>
				<mesh filename="new5_objs/caster_mounting_plate-11-19.obj" />
			</geometry>
		</collision>
		<collision>
			<origin xyz="0.7353071140952109 0 0.4420390869193078" />
			<geometry>
				<mesh filename="new5_objs/caster_mounting_plate-11-20.obj" />
			</geometry>
		</collision>
		<collision>
			<origin xyz="0.7353071140952109 0 0.4420390869193078" />
			<geometry>
				<mesh filename="new5_objs/caster_mounting_plate-11-21.obj" />
			</geometry>
		</collision>
		<collision>
			<origin xyz="0.7353071140952109 0 0.4420390869193078" />
			<geometry>
				<mesh filename="new5_objs/caster_mounting_plate-11-22.obj" />
			</geometry>
		</collision>
		<collision>
			<origin xyz="0.7353071140952109 0 0.4420390869193078" />
			<geometry>
				<mesh filename="new5_objs/caster_mounting_plate-11-23.obj" />
			</geometry>
		</collision>
		<collision>
			<origin xyz="0.7353071140952109 0 0.4420390869193078" />
			<geometry>
				<mesh filename="new5_objs/caster_mounting_plate-11-24.obj" />
			</geometry>
		</collision>
		<collision>
			<origin xyz="0.7353071140952109 0 0.4420390869193078" />
			<geometry>
				<mesh filename="new5_objs/caster_mounting_plate-11-25.obj" />
			</geometry>
		</collision>
		<collision>
			<origin xyz="0.7353071140952109 0 0.4420390869193078" />
			<geometry>
				<mesh filename="new5_objs/caster_mounting_plate-11-26.obj" />
			</geometry>
		</collision>
		<collision>
			<origin xyz="0.7353071140952109 0 0.4420390869193078" />
			<geometry>
				<mesh filename="new5_objs/caster_mounting_plate-11-27.obj" />
			</geometry>
		</collision>
		<collision>
			<origin xyz="0.7353071140952109 0 0.4420390869193078" />
			<geometry>
				<mesh filename="new5_objs/caster_mounting_plate-11-28.obj" />
			</geometry>
		</collision>
		<collision>
			<origin xyz="0.7353071140952109 0 0.4420390869193078" />
			<geometry>
				<mesh filename="new5_objs/caster_mounting_plate-11-29.obj" />
			</geometry>
		</collision>
		<collision>
			<origin xyz="0.7353071140952109 0 0.4420390869193078" />
			<geometry>
				<mesh filename="new5_objs/caster_mounting_plate-11-30.obj" />
			</geometry>
		</collision>
		<collision>
			<origin xyz="0.7353071140952109 0 0.4420390869193078" />
			<geometry>
				<mesh filename="new5_objs/caster_mounting_plate-11-31.obj" />
			</geometry>
		</collision>
		<collision>
			<origin xyz="0.7353071140952109 0 0.4420390869193078" />
			<geometry>
				<mesh filename="new5_objs/caster_mounting_plate-11-32.obj" />
			</geometry>
		</collision>
		<collision>
			<origin xyz="0.7353071140952109 0 0.4420390869193078" />
			<geometry>
				<mesh filename="new5_objs/caster_mounting_plate-11-33.obj" />
			</geometry>
		</collision>
		<collision>
			<origin xyz="0.7353071140952109 0 0.4420390869193078" />
			<geometry>
				<mesh filename="new5_objs/caster_mounting_plate-11-34.obj" />
			</geometry>
		</collision>
		<collision>
			<origin xyz="0.7353071140952109 0 0.4420390869193078" />
			<geometry>
				<mesh filename="new5_objs/caster_mounting_plate-11-35.obj" />
			</geometry>
		</collision>
		<visual name="caster_mounting_plate-11">
			<origin xyz="0.7353071140952109 0 0.4420390869193078" />
			<geometry>
				<mesh filename="textured_objs/original-38.obj" />
			</geometry>
		</visual>
		<visual name="caster_mounting_plate-11">
			<origin xyz="0.7353071140952109 0 0.4420390869193078" />
			<geometry>
				<mesh filename="textured_objs/original-43.obj" />
			</geometry>
		</visual>
		<visual name="caster_mounting_plate-11">
			<origin xyz="0.7353071140952109 0 0.4420390869193078" />
			<geometry>
				<mesh filename="textured_objs/original-41.obj" />
			</geometry>
		</visual>
		<visual name="caster_mounting_plate-11">
			<origin xyz="0.7353071140952109 0 0.4420390869193078" />
			<geometry>
				<mesh filename="textured_objs/original-42.obj" />
			</geometry>
		</visual>
		<visual name="caster_mounting_plate-11">
			<origin xyz="0.7353071140952109 0 0.4420390869193078" />
			<geometry>
				<mesh filename="textured_objs/original-44.obj" />
			</geometry>
		</visual>
		<visual name="caster_mounting_plate-11">
			<origin xyz="0.7353071140952109 0 0.4420390869193078" />
			<geometry>
				<mesh filename="textured_objs/original-39.obj" />
			</geometry>
		</visual>
		</link>
	<joint name="joint_5" type="continuous">
		<origin xyz="-0.7353071140952109 0 -0.4420390869193078" />
		<axis xyz="0 1 0" />
		<child link="link_5" />
		<parent link="link_0" />
	</joint>
	<link name="link_6">
		<collision>
			<origin xyz="0 0.18953 0.485552" />
			<geometry>
				<mesh filename="new5_objs/wheel-12-0.obj" />
			</geometry>
		</collision>
		<collision>
			<origin xyz="0 0.18953 0.485552" />
			<geometry>
				<mesh filename="new5_objs/wheel-12-1.obj" />
			</geometry>
		</collision>
		<collision>
			<origin xyz="0 0.18953 0.485552" />
			<geometry>
				<mesh filename="new5_objs/wheel-12-2.obj" />
			</geometry>
		</collision>
		<collision>
			<origin xyz="0 0.18953 0.485552" />
			<geometry>
				<mesh filename="new5_objs/wheel-12-3.obj" />
			</geometry>
		</collision>
		<collision>
			<origin xyz="0 0.18953 0.485552" />
			<geometry>
				<mesh filename="new5_objs/wheel-12-4.obj" />
			</geometry>
		</collision>
		<collision>
			<origin xyz="0 0.18953 0.485552" />
			<geometry>
				<mesh filename="new5_objs/wheel-12-5.obj" />
			</geometry>
		</collision>
		<collision>
			<origin xyz="0 0.18953 0.485552" />
			<geometry>
				<mesh filename="new5_objs/wheel-12-6.obj" />
			</geometry>
		</collision>
		<collision>
			<origin xyz="0 0.18953 0.485552" />
			<geometry>
				<mesh filename="new5_objs/wheel-12-7.obj" />
			</geometry>
		</collision>
		<collision>
			<origin xyz="0 0.18953 0.485552" />
			<geometry>
				<mesh filename="new5_objs/wheel-12-8.obj" />
			</geometry>
		</collision>
		<collision>
			<origin xyz="0 0.18953 0.485552" />
			<geometry>
				<mesh filename="new5_objs/wheel-12-9.obj" />
			</geometry>
		</collision>
		<collision>
			<origin xyz="0 0.18953 0.485552" />
			<geometry>
				<mesh filename="new5_objs/wheel-12-10.obj" />
			</geometry>
		</collision>
		<collision>
			<origin xyz="0 0.18953 0.485552" />
			<geometry>
				<mesh filename="new5_objs/wheel-12-11.obj" />
			</geometry>
		</collision>
		<collision>
			<origin xyz="0 0.18953 0.485552" />
			<geometry>
				<mesh filename="new5_objs/wheel-12-12.obj" />
			</geometry>
		</collision>
		<collision>
			<origin xyz="0 0.18953 0.485552" />
			<geometry>
				<mesh filename="new5_objs/wheel-12-13.obj" />
			</geometry>
		</collision>
		<collision>
			<origin xyz="0 0.18953 0.485552" />
			<geometry>
				<mesh filename="new5_objs/wheel-12-14.obj" />
			</geometry>
		</collision>
		<collision>
			<origin xyz="0 0.18953 0.485552" />
			<geometry>
				<mesh filename="new5_objs/wheel-12-15.obj" />
			</geometry>
		</collision>
		<collision>
			<origin xyz="0 0.18953 0.485552" />
			<geometry>
				<mesh filename="new5_objs/wheel-12-16.obj" />
			</geometry>
		</collision>
		<collision>
			<origin xyz="0 0.18953 0.485552" />
			<geometry>
				<mesh filename="new5_objs/wheel-12-17.obj" />
			</geometry>
		</collision>
		<collision>
			<origin xyz="0 0.18953 0.485552" />
			<geometry>
				<mesh filename="new5_objs/wheel-12-18.obj" />
			</geometry>
		</collision>
		<collision>
			<origin xyz="0 0.18953 0.485552" />
			<geometry>
				<mesh filename="new5_objs/wheel-12-19.obj" />
			</geometry>
		</collision>
		<collision>
			<origin xyz="0 0.18953 0.485552" />
			<geometry>
				<mesh filename="new5_objs/wheel-12-20.obj" />
			</geometry>
		</collision>
		<collision>
			<origin xyz="0 0.18953 0.485552" />
			<geometry>
				<mesh filename="new5_objs/wheel-12-21.obj" />
			</geometry>
		</collision>
		<collision>
			<origin xyz="0 0.18953 0.485552" />
			<geometry>
				<mesh filename="new5_objs/wheel-12-22.obj" />
			</geometry>
		</collision>
		<collision>
			<origin xyz="0 0.18953 0.485552" />
			<geometry>
				<mesh filename="new5_objs/wheel-12-23.obj" />
			</geometry>
		</collision>
		<collision>
			<origin xyz="0 0.18953 0.485552" />
			<geometry>
				<mesh filename="new5_objs/wheel-12-24.obj" />
			</geometry>
		</collision>
		<collision>
			<origin xyz="0 0.18953 0.485552" />
			<geometry>
				<mesh filename="new5_objs/wheel-12-25.obj" />
			</geometry>
		</collision>
		<collision>
			<origin xyz="0 0.18953 0.485552" />
			<geometry>
				<mesh filename="new5_objs/wheel-12-26.obj" />
			</geometry>
		</collision>
		<collision>
			<origin xyz="0 0.18953 0.485552" />
			<geometry>
				<mesh filename="new5_objs/wheel-12-27.obj" />
			</geometry>
		</collision>
		<collision>
			<origin xyz="0 0.18953 0.485552" />
			<geometry>
				<mesh filename="new5_objs/wheel-12-28.obj" />
			</geometry>
		</collision>
		<collision>
			<origin xyz="0 0.18953 0.485552" />
			<geometry>
				<mesh filename="new5_objs/wheel-12-29.obj" />
			</geometry>
		</collision>
		<collision>
			<origin xyz="0 0.18953 0.485552" />
			<geometry>
				<mesh filename="new5_objs/wheel-12-30.obj" />
			</geometry>
		</collision>
		<collision>
			<origin xyz="0 0.18953 0.485552" />
			<geometry>
				<mesh filename="new5_objs/wheel-12-31.obj" />
			</geometry>
		</collision>
		<collision>
			<origin xyz="0 0.18953 0.485552" />
			<geometry>
				<mesh filename="new5_objs/wheel-12-32.obj" />
			</geometry>
		</collision>
		<collision>
			<origin xyz="0 0.18953 0.485552" />
			<geometry>
				<mesh filename="new5_objs/wheel-12-33.obj" />
			</geometry>
		</collision>
		<collision>
			<origin xyz="0 0.18953 0.485552" />
			<geometry>
				<mesh filename="new5_objs/wheel-12-34.obj" />
			</geometry>
		</collision>
		<collision>
			<origin xyz="0 0.18953 0.485552" />
			<geometry>
				<mesh filename="new5_objs/wheel-12-35.obj" />
			</geometry>
		</collision>
		<collision>
			<origin xyz="0 0.18953 0.485552" />
			<geometry>
				<mesh filename="new5_objs/wheel-12-36.obj" />
			</geometry>
		</collision>
		<collision>
			<origin xyz="0 0.18953 0.485552" />
			<geometry>
				<mesh filename="new5_objs/wheel-12-37.obj" />
			</geometry>
		</collision>
		<collision>
			<origin xyz="0 0.18953 0.485552" />
			<geometry>
				<mesh filename="new5_objs/wheel-12-38.obj" />
			</geometry>
		</collision>
		<collision>
			<origin xyz="0 0.18953 0.485552" />
			<geometry>
				<mesh filename="new5_objs/wheel-12-39.obj" />
			</geometry>
		</collision>
		<collision>
			<origin xyz="0 0.18953 0.485552" />
			<geometry>
				<mesh filename="new5_objs/wheel-12-40.obj" />
			</geometry>
		</collision>
	<visual name="wheel-12">
			<origin xyz="0 0.18953 0.485552" />
			<geometry>
				<mesh filename="textured_objs/original-40.obj" />
			</geometry>
		</visual>
		</link>
	<joint name="joint_6" type="continuous">
		<origin xyz="0.7353071140952109 -0.18953 -0.04351291308069216" />
		<axis xyz="-1 0 0" />
		<child link="link_6" />
		<parent link="link_5" />
	</joint>
	<link name="link_7">
		<collision>
			<origin xyz="-0.7927839366774556 0 0.4515961952848435" />
			<geometry>
				<mesh filename="new5_objs/caster_mounting_plate-9-0.obj" />
			</geometry>
		</collision>
		<collision>
			<origin xyz="-0.7927839366774556 0 0.4515961952848435" />
			<geometry>
				<mesh filename="new5_objs/caster_mounting_plate-9-1.obj" />
			</geometry>
		</collision>
		<collision>
			<origin xyz="-0.7927839366774556 0 0.4515961952848435" />
			<geometry>
				<mesh filename="new5_objs/caster_mounting_plate-9-2.obj" />
			</geometry>
		</collision>
		<collision>
			<origin xyz="-0.7927839366774556 0 0.4515961952848435" />
			<geometry>
				<mesh filename="new5_objs/caster_mounting_plate-9-3.obj" />
			</geometry>
		</collision>
		<collision>
			<origin xyz="-0.7927839366774556 0 0.4515961952848435" />
			<geometry>
				<mesh filename="new5_objs/caster_mounting_plate-9-4.obj" />
			</geometry>
		</collision>
		<collision>
			<origin xyz="-0.7927839366774556 0 0.4515961952848435" />
			<geometry>
				<mesh filename="new5_objs/caster_mounting_plate-9-5.obj" />
			</geometry>
		</collision>
		<collision>
			<origin xyz="-0.7927839366774556 0 0.4515961952848435" />
			<geometry>
				<mesh filename="new5_objs/caster_mounting_plate-9-6.obj" />
			</geometry>
		</collision>
		<collision>
			<origin xyz="-0.7927839366774556 0 0.4515961952848435" />
			<geometry>
				<mesh filename="new5_objs/caster_mounting_plate-9-7.obj" />
			</geometry>
		</collision>
		<collision>
			<origin xyz="-0.7927839366774556 0 0.4515961952848435" />
			<geometry>
				<mesh filename="new5_objs/caster_mounting_plate-9-8.obj" />
			</geometry>
		</collision>
		<collision>
			<origin xyz="-0.7927839366774556 0 0.4515961952848435" />
			<geometry>
				<mesh filename="new5_objs/caster_mounting_plate-9-9.obj" />
			</geometry>
		</collision>
		<collision>
			<origin xyz="-0.7927839366774556 0 0.4515961952848435" />
			<geometry>
				<mesh filename="new5_objs/caster_mounting_plate-9-10.obj" />
			</geometry>
		</collision>
		<collision>
			<origin xyz="-0.7927839366774556 0 0.4515961952848435" />
			<geometry>
				<mesh filename="new5_objs/caster_mounting_plate-9-11.obj" />
			</geometry>
		</collision>
		<collision>
			<origin xyz="-0.7927839366774556 0 0.4515961952848435" />
			<geometry>
				<mesh filename="new5_objs/caster_mounting_plate-9-12.obj" />
			</geometry>
		</collision>
		<collision>
			<origin xyz="-0.7927839366774556 0 0.4515961952848435" />
			<geometry>
				<mesh filename="new5_objs/caster_mounting_plate-9-13.obj" />
			</geometry>
		</collision>
		<collision>
			<origin xyz="-0.7927839366774556 0 0.4515961952848435" />
			<geometry>
				<mesh filename="new5_objs/caster_mounting_plate-9-14.obj" />
			</geometry>
		</collision>
		<collision>
			<origin xyz="-0.7927839366774556 0 0.4515961952848435" />
			<geometry>
				<mesh filename="new5_objs/caster_mounting_plate-9-15.obj" />
			</geometry>
		</collision>
		<collision>
			<origin xyz="-0.7927839366774556 0 0.4515961952848435" />
			<geometry>
				<mesh filename="new5_objs/caster_mounting_plate-9-16.obj" />
			</geometry>
		</collision>
		<collision>
			<origin xyz="-0.7927839366774556 0 0.4515961952848435" />
			<geometry>
				<mesh filename="new5_objs/caster_mounting_plate-9-17.obj" />
			</geometry>
		</collision>
		<collision>
			<origin xyz="-0.7927839366774556 0 0.4515961952848435" />
			<geometry>
				<mesh filename="new5_objs/caster_mounting_plate-9-18.obj" />
			</geometry>
		</collision>
		<collision>
			<origin xyz="-0.7927839366774556 0 0.4515961952848435" />
			<geometry>
				<mesh filename="new5_objs/caster_mounting_plate-9-19.obj" />
			</geometry>
		</collision>
		<collision>
			<origin xyz="-0.7927839366774556 0 0.4515961952848435" />
			<geometry>
				<mesh filename="new5_objs/caster_mounting_plate-9-20.obj" />
			</geometry>
		</collision>
		<collision>
			<origin xyz="-0.7927839366774556 0 0.4515961952848435" />
			<geometry>
				<mesh filename="new5_objs/caster_mounting_plate-9-21.obj" />
			</geometry>
		</collision>
		<collision>
			<origin xyz="-0.7927839366774556 0 0.4515961952848435" />
			<geometry>
				<mesh filename="new5_objs/caster_mounting_plate-9-22.obj" />
			</geometry>
		</collision>
		<collision>
			<origin xyz="-0.7927839366774556 0 0.4515961952848435" />
			<geometry>
				<mesh filename="new5_objs/caster_mounting_plate-9-23.obj" />
			</geometry>
		</collision>
		<collision>
			<origin xyz="-0.7927839366774556 0 0.4515961952848435" />
			<geometry>
				<mesh filename="new5_objs/caster_mounting_plate-9-24.obj" />
			</geometry>
		</collision>
		<collision>
			<origin xyz="-0.7927839366774556 0 0.4515961952848435" />
			<geometry>
				<mesh filename="new5_objs/caster_mounting_plate-9-25.obj" />
			</geometry>
		</collision>
		<collision>
			<origin xyz="-0.7927839366774556 0 0.4515961952848435" />
			<geometry>
				<mesh filename="new5_objs/caster_mounting_plate-9-26.obj" />
			</geometry>
		</collision>
		<collision>
			<origin xyz="-0.7927839366774556 0 0.4515961952848435" />
			<geometry>
				<mesh filename="new5_objs/caster_mounting_plate-9-27.obj" />
			</geometry>
		</collision>
		<collision>
			<origin xyz="-0.7927839366774556 0 0.4515961952848435" />
			<geometry>
				<mesh filename="new5_objs/caster_mounting_plate-9-28.obj" />
			</geometry>
		</collision>
		<collision>
			<origin xyz="-0.7927839366774556 0 0.4515961952848435" />
			<geometry>
				<mesh filename="new5_objs/caster_mounting_plate-9-29.obj" />
			</geometry>
		</collision>
		<collision>
			<origin xyz="-0.7927839366774556 0 0.4515961952848435" />
			<geometry>
				<mesh filename="new5_objs/caster_mounting_plate-9-30.obj" />
			</geometry>
		</collision>
		<collision>
			<origin xyz="-0.7927839366774556 0 0.4515961952848435" />
			<geometry>
				<mesh filename="new5_objs/caster_mounting_plate-9-31.obj" />
			</geometry>
		</collision>
		<collision>
			<origin xyz="-0.7927839366774556 0 0.4515961952848435" />
			<geometry>
				<mesh filename="new5_objs/caster_mounting_plate-9-32.obj" />
			</geometry>
		</collision>
		<collision>
			<origin xyz="-0.7927839366774556 0 0.4515961952848435" />
			<geometry>
				<mesh filename="new5_objs/caster_mounting_plate-9-33.obj" />
			</geometry>
		</collision>
		<collision>
			<origin xyz="-0.7927839366774556 0 0.4515961952848435" />
			<geometry>
				<mesh filename="new5_objs/caster_mounting_plate-9-34.obj" />
			</geometry>
		</collision>
		<collision>
			<origin xyz="-0.7927839366774556 0 0.4515961952848435" />
			<geometry>
				<mesh filename="new5_objs/caster_mounting_plate-9-35.obj" />
			</geometry>
		</collision>
		<visual name="caster_mounting_plate-9">
			<origin xyz="-0.7927839366774556 0 0.4515961952848435" />
			<geometry>
				<mesh filename="textured_objs/original-5.obj" />
			</geometry>
		</visual>
		<visual name="caster_mounting_plate-9">
			<origin xyz="-0.7927839366774556 0 0.4515961952848435" />
			<geometry>
				<mesh filename="textured_objs/original-6.obj" />
			</geometry>
		</visual>
		<visual name="caster_mounting_plate-9">
			<origin xyz="-0.7927839366774556 0 0.4515961952848435" />
			<geometry>
				<mesh filename="textured_objs/original-7.obj" />
			</geometry>
		</visual>
		<visual name="caster_mounting_plate-9">
			<origin xyz="-0.7927839366774556 0 0.4515961952848435" />
			<geometry>
				<mesh filename="textured_objs/original-3.obj" />
			</geometry>
		</visual>
		<visual name="caster_mounting_plate-9">
			<origin xyz="-0.7927839366774556 0 0.4515961952848435" />
			<geometry>
				<mesh filename="textured_objs/original-2.obj" />
			</geometry>
		</visual>
		<visual name="caster_mounting_plate-9">
			<origin xyz="-0.7927839366774556 0 0.4515961952848435" />
			<geometry>
				<mesh filename="textured_objs/original-8.obj" />
			</geometry>
		</visual>
		</link>
	<joint name="joint_7" type="continuous">
		<origin xyz="0.7927839366774556 0 -0.4515961952848435" />
		<axis xyz="0 1 0" />
		<child link="link_7" />
		<parent link="link_0" />
	</joint>
	<link name="link_8">
		<collision>
			<origin xyz="0 0.18953 0.4989015" />
			<geometry>
				<mesh filename="new5_objs/wheel-10-0.obj" />
			</geometry>
		</collision>
		<collision>
			<origin xyz="0 0.18953 0.4989015" />
			<geometry>
				<mesh filename="new5_objs/wheel-10-1.obj" />
			</geometry>
		</collision>
		<collision>
			<origin xyz="0 0.18953 0.4989015" />
			<geometry>
				<mesh filename="new5_objs/wheel-10-2.obj" />
			</geometry>
		</collision>
		<collision>
			<origin xyz="0 0.18953 0.4989015" />
			<geometry>
				<mesh filename="new5_objs/wheel-10-3.obj" />
			</geometry>
		</collision>
		<collision>
			<origin xyz="0 0.18953 0.4989015" />
			<geometry>
				<mesh filename="new5_objs/wheel-10-4.obj" />
			</geometry>
		</collision>
		<collision>
			<origin xyz="0 0.18953 0.4989015" />
			<geometry>
				<mesh filename="new5_objs/wheel-10-5.obj" />
			</geometry>
		</collision>
		<collision>
			<origin xyz="0 0.18953 0.4989015" />
			<geometry>
				<mesh filename="new5_objs/wheel-10-6.obj" />
			</geometry>
		</collision>
		<collision>
			<origin xyz="0 0.18953 0.4989015" />
			<geometry>
				<mesh filename="new5_objs/wheel-10-7.obj" />
			</geometry>
		</collision>
		<collision>
			<origin xyz="0 0.18953 0.4989015" />
			<geometry>
				<mesh filename="new5_objs/wheel-10-8.obj" />
			</geometry>
		</collision>
		<collision>
			<origin xyz="0 0.18953 0.4989015" />
			<geometry>
				<mesh filename="new5_objs/wheel-10-9.obj" />
			</geometry>
		</collision>
		<collision>
			<origin xyz="0 0.18953 0.4989015" />
			<geometry>
				<mesh filename="new5_objs/wheel-10-10.obj" />
			</geometry>
		</collision>
		<collision>
			<origin xyz="0 0.18953 0.4989015" />
			<geometry>
				<mesh filename="new5_objs/wheel-10-11.obj" />
			</geometry>
		</collision>
		<collision>
			<origin xyz="0 0.18953 0.4989015" />
			<geometry>
				<mesh filename="new5_objs/wheel-10-12.obj" />
			</geometry>
		</collision>
		<collision>
			<origin xyz="0 0.18953 0.4989015" />
			<geometry>
				<mesh filename="new5_objs/wheel-10-13.obj" />
			</geometry>
		</collision>
		<collision>
			<origin xyz="0 0.18953 0.4989015" />
			<geometry>
				<mesh filename="new5_objs/wheel-10-14.obj" />
			</geometry>
		</collision>
		<collision>
			<origin xyz="0 0.18953 0.4989015" />
			<geometry>
				<mesh filename="new5_objs/wheel-10-15.obj" />
			</geometry>
		</collision>
		<collision>
			<origin xyz="0 0.18953 0.4989015" />
			<geometry>
				<mesh filename="new5_objs/wheel-10-16.obj" />
			</geometry>
		</collision>
		<collision>
			<origin xyz="0 0.18953 0.4989015" />
			<geometry>
				<mesh filename="new5_objs/wheel-10-17.obj" />
			</geometry>
		</collision>
		<collision>
			<origin xyz="0 0.18953 0.4989015" />
			<geometry>
				<mesh filename="new5_objs/wheel-10-18.obj" />
			</geometry>
		</collision>
		<collision>
			<origin xyz="0 0.18953 0.4989015" />
			<geometry>
				<mesh filename="new5_objs/wheel-10-19.obj" />
			</geometry>
		</collision>
		<collision>
			<origin xyz="0 0.18953 0.4989015" />
			<geometry>
				<mesh filename="new5_objs/wheel-10-20.obj" />
			</geometry>
		</collision>
		<collision>
			<origin xyz="0 0.18953 0.4989015" />
			<geometry>
				<mesh filename="new5_objs/wheel-10-21.obj" />
			</geometry>
		</collision>
		<collision>
			<origin xyz="0 0.18953 0.4989015" />
			<geometry>
				<mesh filename="new5_objs/wheel-10-22.obj" />
			</geometry>
		</collision>
		<collision>
			<origin xyz="0 0.18953 0.4989015" />
			<geometry>
				<mesh filename="new5_objs/wheel-10-23.obj" />
			</geometry>
		</collision>
		<collision>
			<origin xyz="0 0.18953 0.4989015" />
			<geometry>
				<mesh filename="new5_objs/wheel-10-24.obj" />
			</geometry>
		</collision>
		<collision>
			<origin xyz="0 0.18953 0.4989015" />
			<geometry>
				<mesh filename="new5_objs/wheel-10-25.obj" />
			</geometry>
		</collision>
		<collision>
			<origin xyz="0 0.18953 0.4989015" />
			<geometry>
				<mesh filename="new5_objs/wheel-10-26.obj" />
			</geometry>
		</collision>
		<collision>
			<origin xyz="0 0.18953 0.4989015" />
			<geometry>
				<mesh filename="new5_objs/wheel-10-27.obj" />
			</geometry>
		</collision>
		<collision>
			<origin xyz="0 0.18953 0.4989015" />
			<geometry>
				<mesh filename="new5_objs/wheel-10-28.obj" />
			</geometry>
		</collision>
		<collision>
			<origin xyz="0 0.18953 0.4989015" />
			<geometry>
				<mesh filename="new5_objs/wheel-10-29.obj" />
			</geometry>
		</collision>
		<collision>
			<origin xyz="0 0.18953 0.4989015" />
			<geometry>
				<mesh filename="new5_objs/wheel-10-30.obj" />
			</geometry>
		</collision>
		<collision>
			<origin xyz="0 0.18953 0.4989015" />
			<geometry>
				<mesh filename="new5_objs/wheel-10-31.obj" />
			</geometry>
		</collision>
		<collision>
			<origin xyz="0 0.18953 0.4989015" />
			<geometry>
				<mesh filename="new5_objs/wheel-10-32.obj" />
			</geometry>
		</collision>
		<collision>
			<origin xyz="0 0.18953 0.4989015" />
			<geometry>
				<mesh filename="new5_objs/wheel-10-33.obj" />
			</geometry>
		</collision>
		<collision>
			<origin xyz="0 0.18953 0.4989015" />
			<geometry>
				<mesh filename="new5_objs/wheel-10-34.obj" />
			</geometry>
		</collision>
		<collision>
			<origin xyz="0 0.18953 0.4989015" />
			<geometry>
				<mesh filename="new5_objs/wheel-10-35.obj" />
			</geometry>
		</collision>
		<collision>
			<origin xyz="0 0.18953 0.4989015" />
			<geometry>
				<mesh filename="new5_objs/wheel-10-36.obj" />
			</geometry>
		</collision>
		<collision>
			<origin xyz="0 0.18953 0.4989015" />
			<geometry>
				<mesh filename="new5_objs/wheel-10-37.obj" />
			</geometry>
		</collision>
		<collision>
			<origin xyz="0 0.18953 0.4989015" />
			<geometry>
				<mesh filename="new5_objs/wheel-10-38.obj" />
			</geometry>
		</collision>
		<collision>
			<origin xyz="0 0.18953 0.4989015" />
			<geometry>
				<mesh filename="new5_objs/wheel-10-39.obj" />
			</geometry>
		</collision>
		<collision>
			<origin xyz="0 0.18953 0.4989015" />
			<geometry>
				<mesh filename="new5_objs/wheel-10-40.obj" />
			</geometry>
		</collision>
	<visual name="wheel-10">
			<origin xyz="0 0.18953 0.4989015" />
			<geometry>
				<mesh filename="textured_objs/original-4.obj" />
			</geometry>
		</visual>
		</link>
	<joint name="joint_8" type="continuous">
		<origin xyz="-0.7927839366774556 -0.18953 -0.04730530471515648" />
		<axis xyz="-1 0 0" />
		<child link="link_8" />
		<parent link="link_7" />
	</joint>
</robot>
